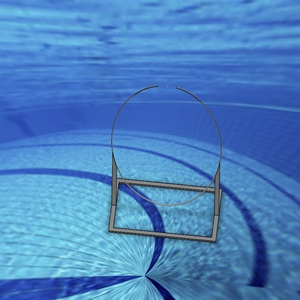circle: (106, 84, 223, 244)
